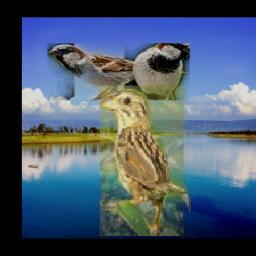Sparrow: (100, 86, 191, 236), (47, 43, 190, 100)
